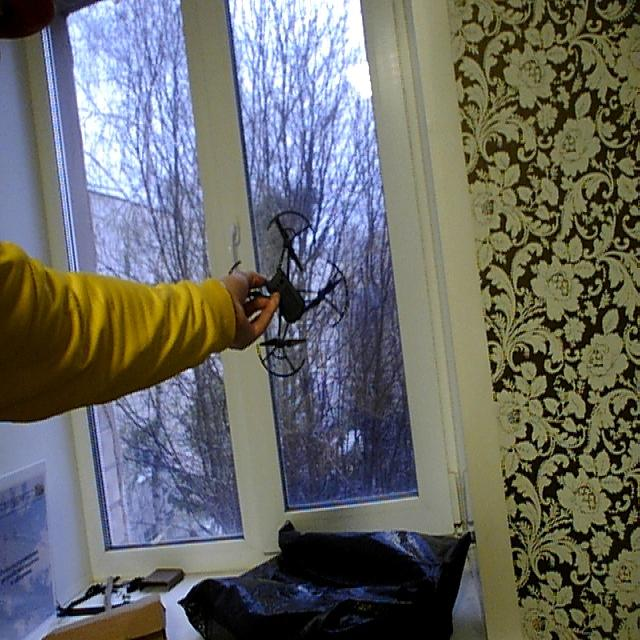drone: (226, 208, 356, 384)
